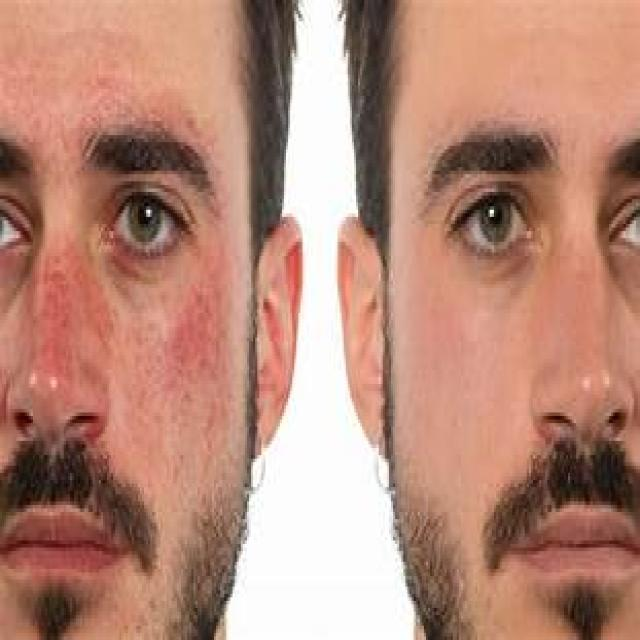Rosacea: (149, 302, 225, 384), (45, 260, 100, 350)
